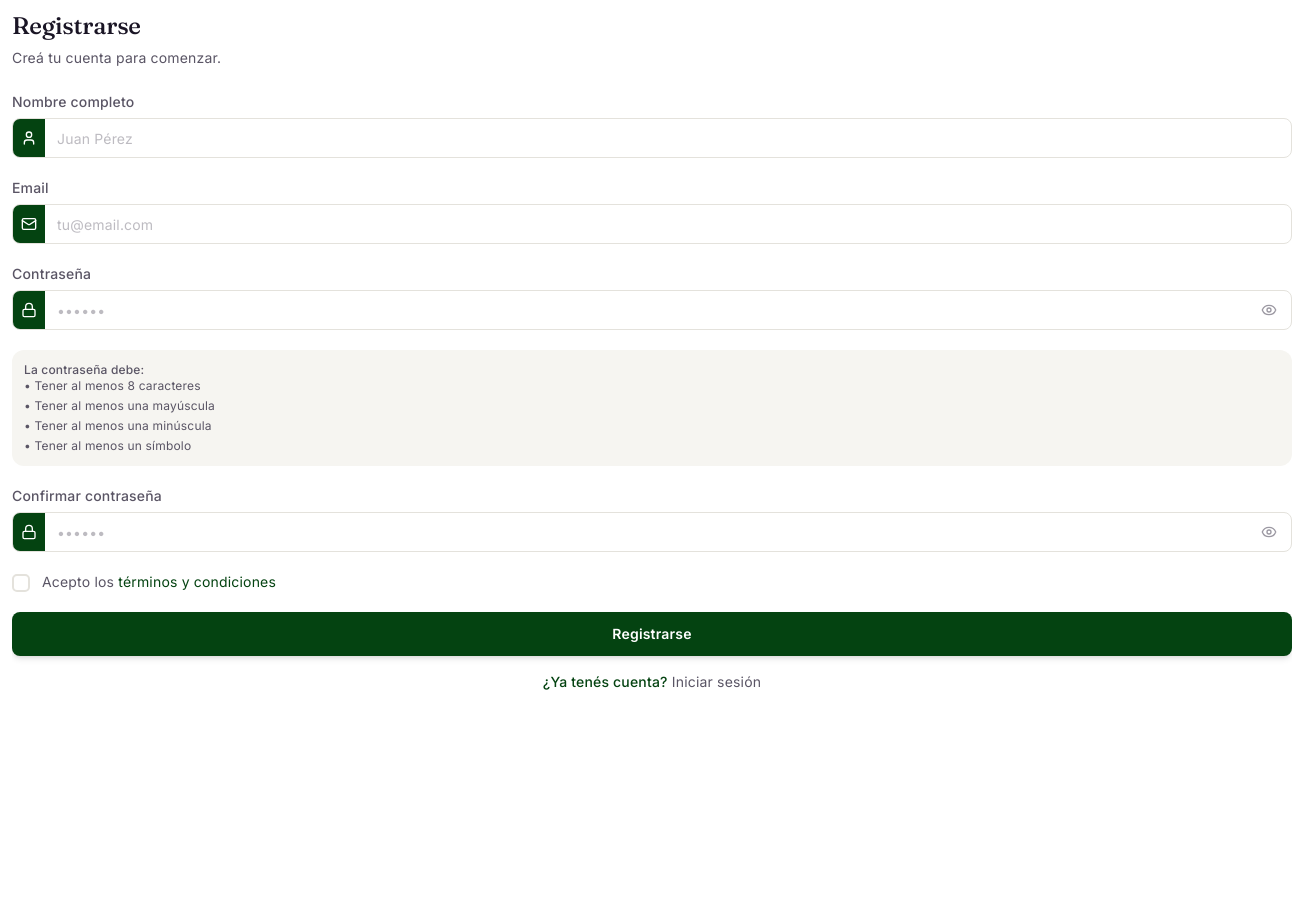
Test case: RegisterPage › shows error when terms not accepted
Type "test@test.com" into the field with placeholder "tu@email.com" at (668,224), box [45,205,1291,243]
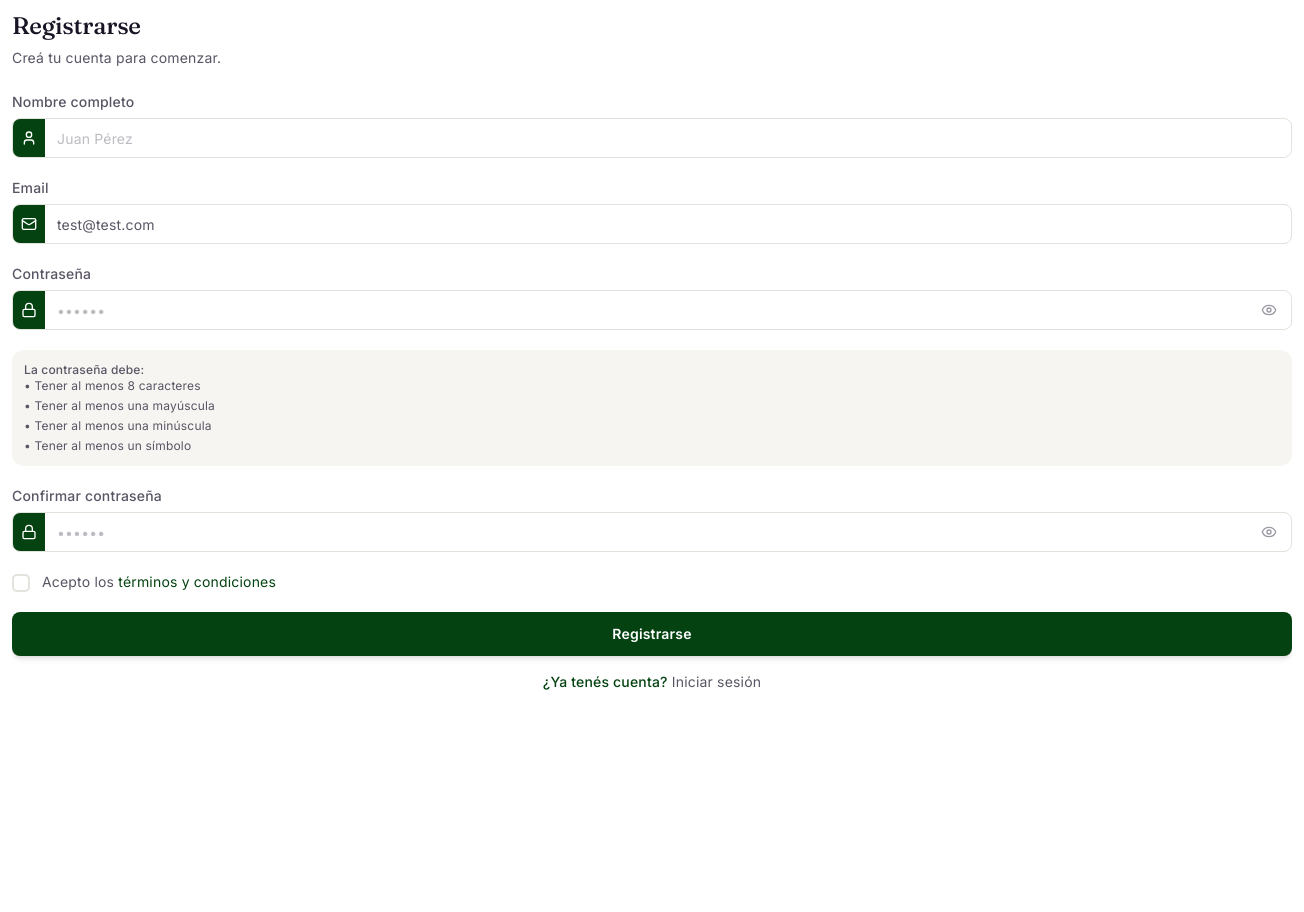
Type "Password123!" into the password field with placeholder "••••••" at (651,310), box [45,291,1257,329]
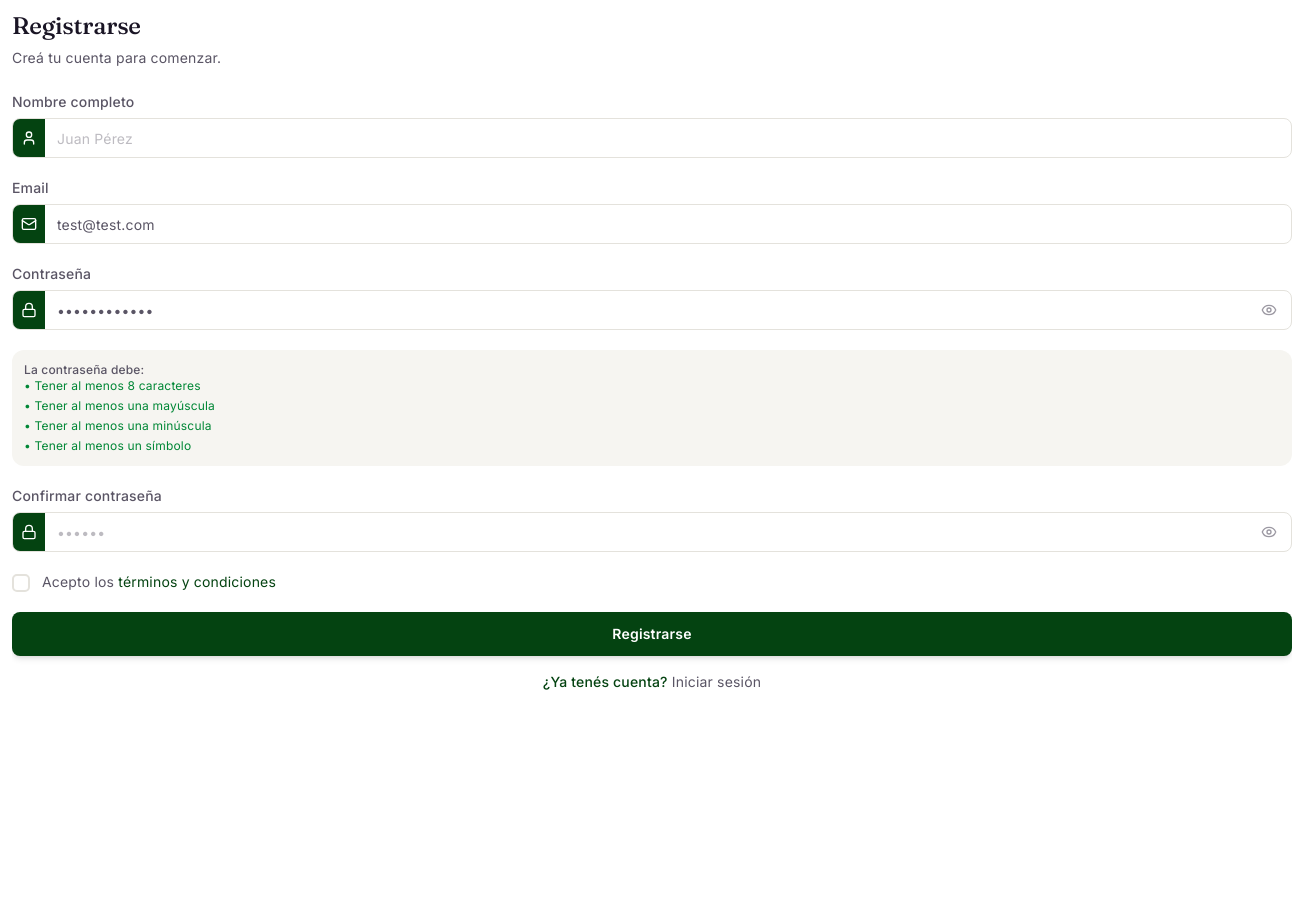
Type "Password123!" into the password field with placeholder "••••••" at (651,532), box [45,513,1257,551]
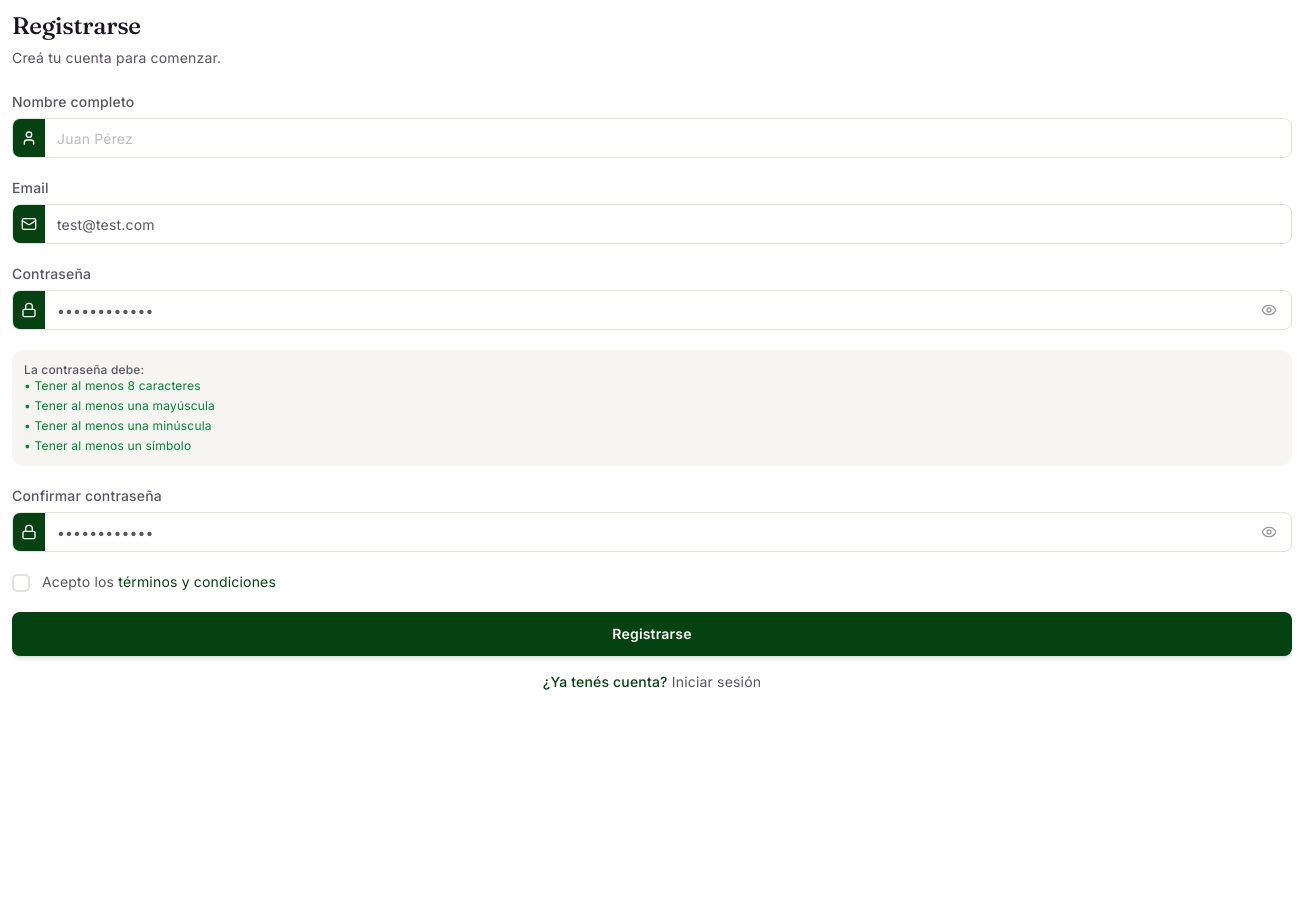
Submit the form named "Registrarse"
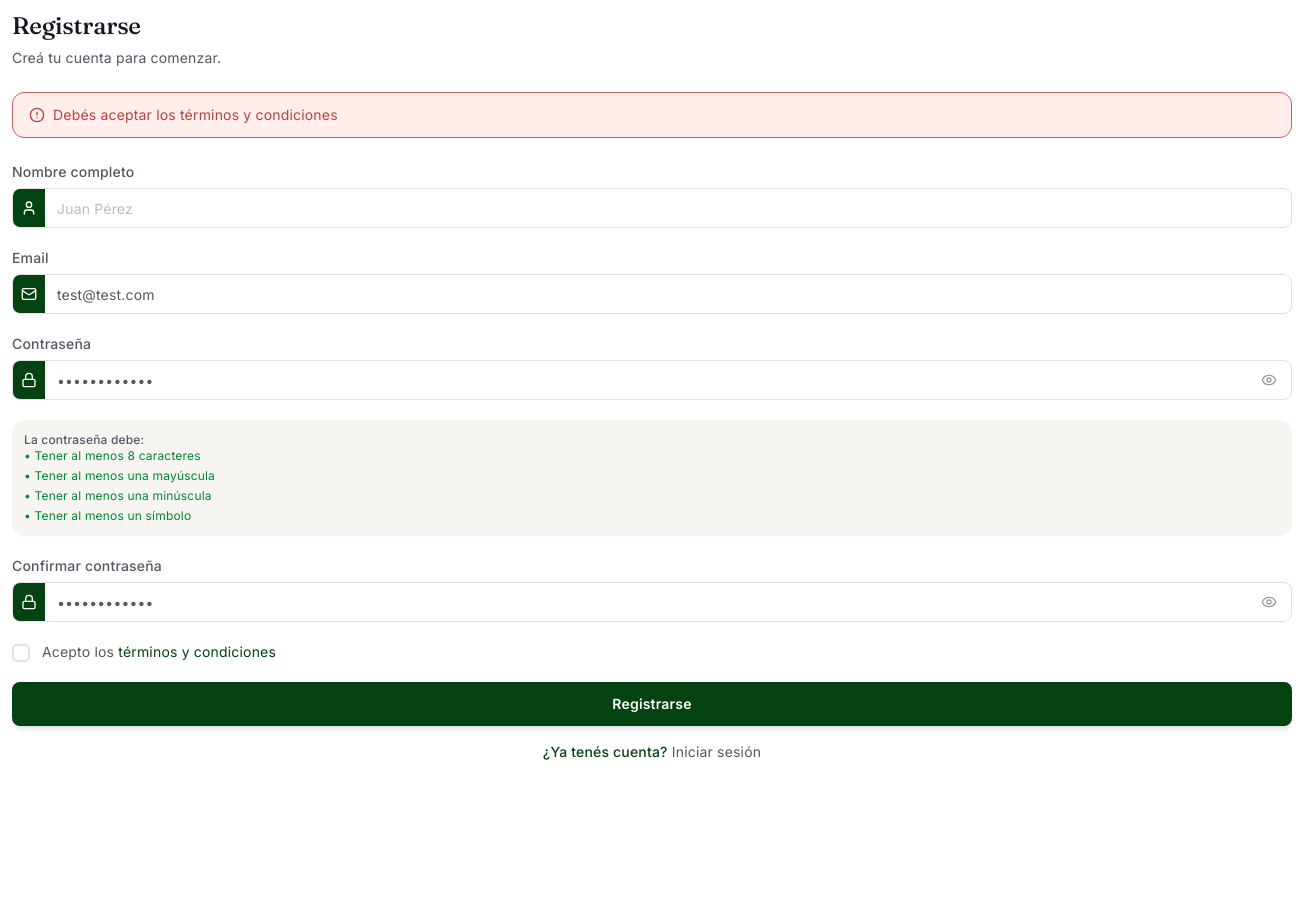
Expected: the text "Debés aceptar los términos y condiciones" is shown, [12,92,1292,138]
